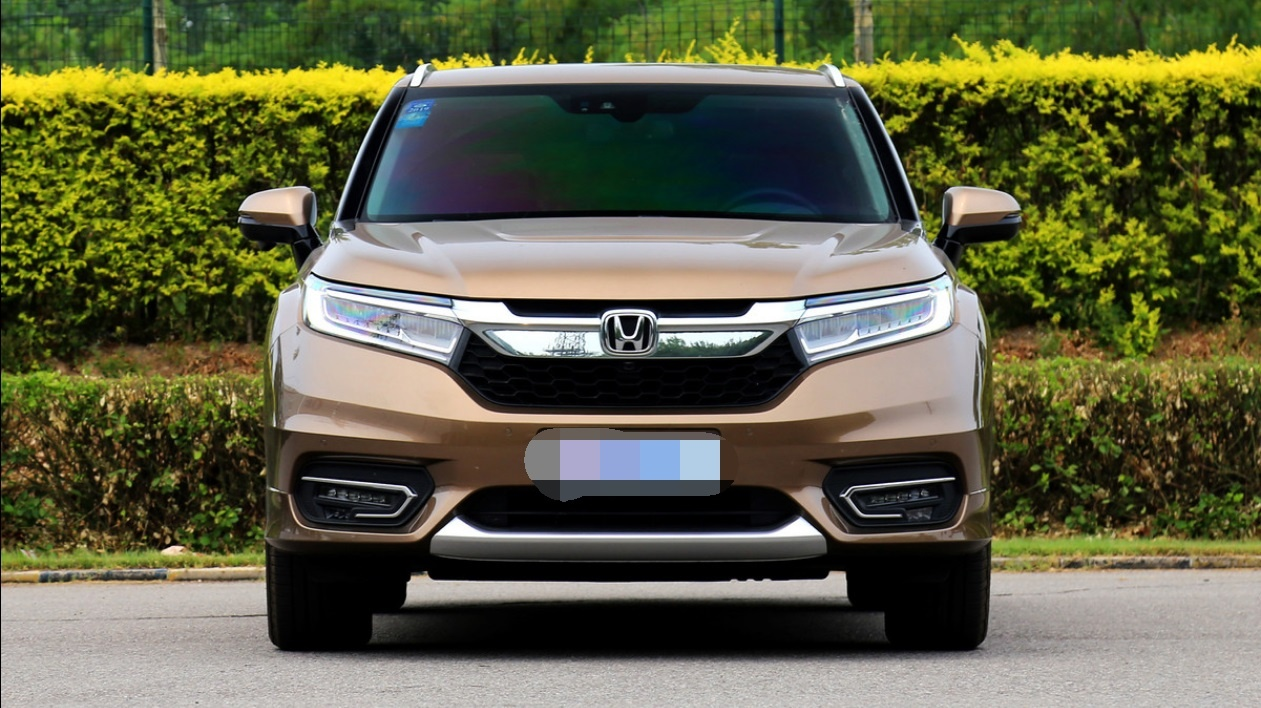SUV: (234, 42, 1020, 645)
